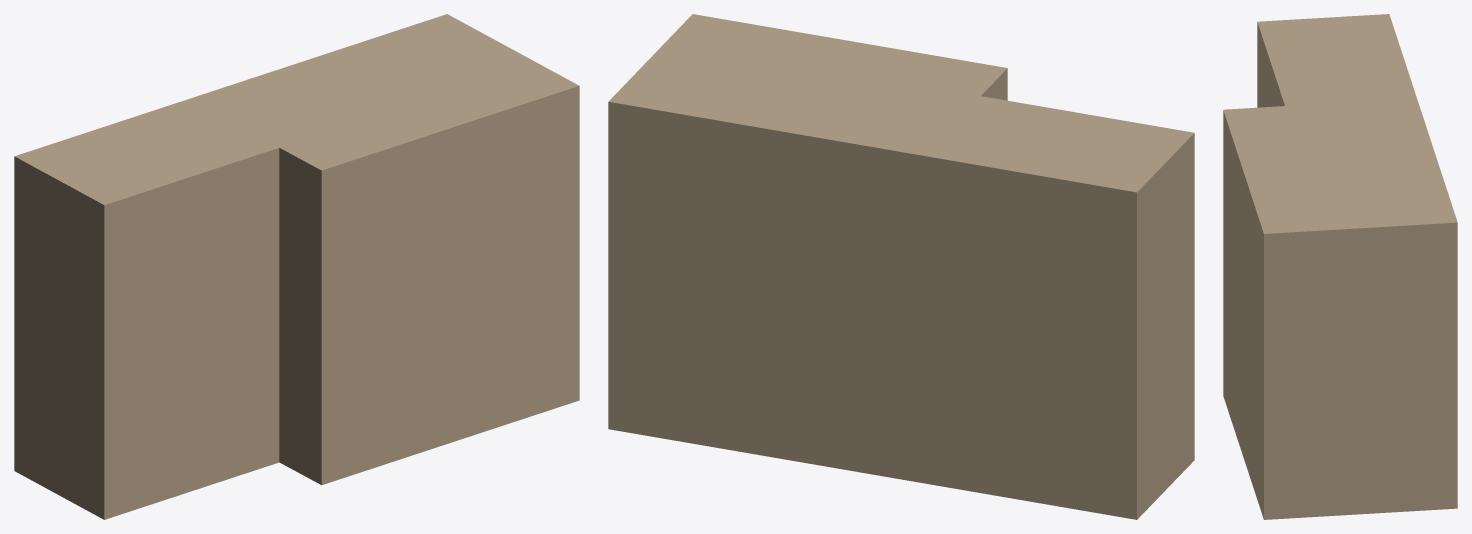
Rendered from bld_101562332.dae.
3 views of the same model, side by side, from view 1: azimuth 30°, elevation 25°; view 2: azimuth 150°, elevation 25°; view 3: azimuth 270°, elevation 25° (orthographic). The views are drawn at different scales.
Parts seen in each view (by area): view 1: bld_101562332; view 2: bld_101562332; view 3: bld_101562332.
Boxes of the visible parts, x1,y1,x2,y2 form: bld_101562332: [14, 14, 579, 519]; bld_101562332: [608, 14, 1194, 519]; bld_101562332: [1223, 14, 1457, 519].
Bounding box in the file's own units: 13.2 × 5.95 × 8.
